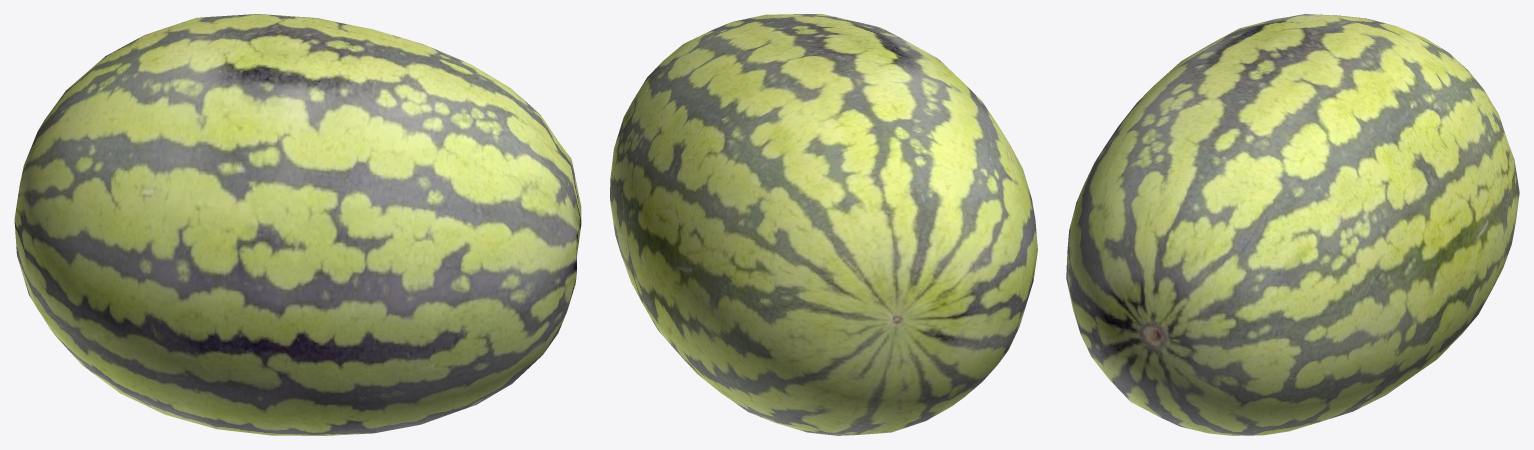
The model's file is prop_watermelon.glb.
3 renders of one model, left to right at view 1: azimuth 30°, elevation 25°; view 2: azimuth 150°, elevation 25°; view 3: azimuth 270°, elevation 25°, orthographic. The views are drawn at different scales.
Visible parts, largest first — view 1: prop_watermelon; view 2: prop_watermelon; view 3: prop_watermelon.
Boxes of the visible parts, x1,y1,x2,y2 form: prop_watermelon: (14, 14, 581, 435); prop_watermelon: (610, 14, 1037, 435); prop_watermelon: (1066, 14, 1519, 435).
Bounding box in the file's own units: 0.38 × 0.3002 × 0.3487.
Materials: 1 (1 with a texture image).
